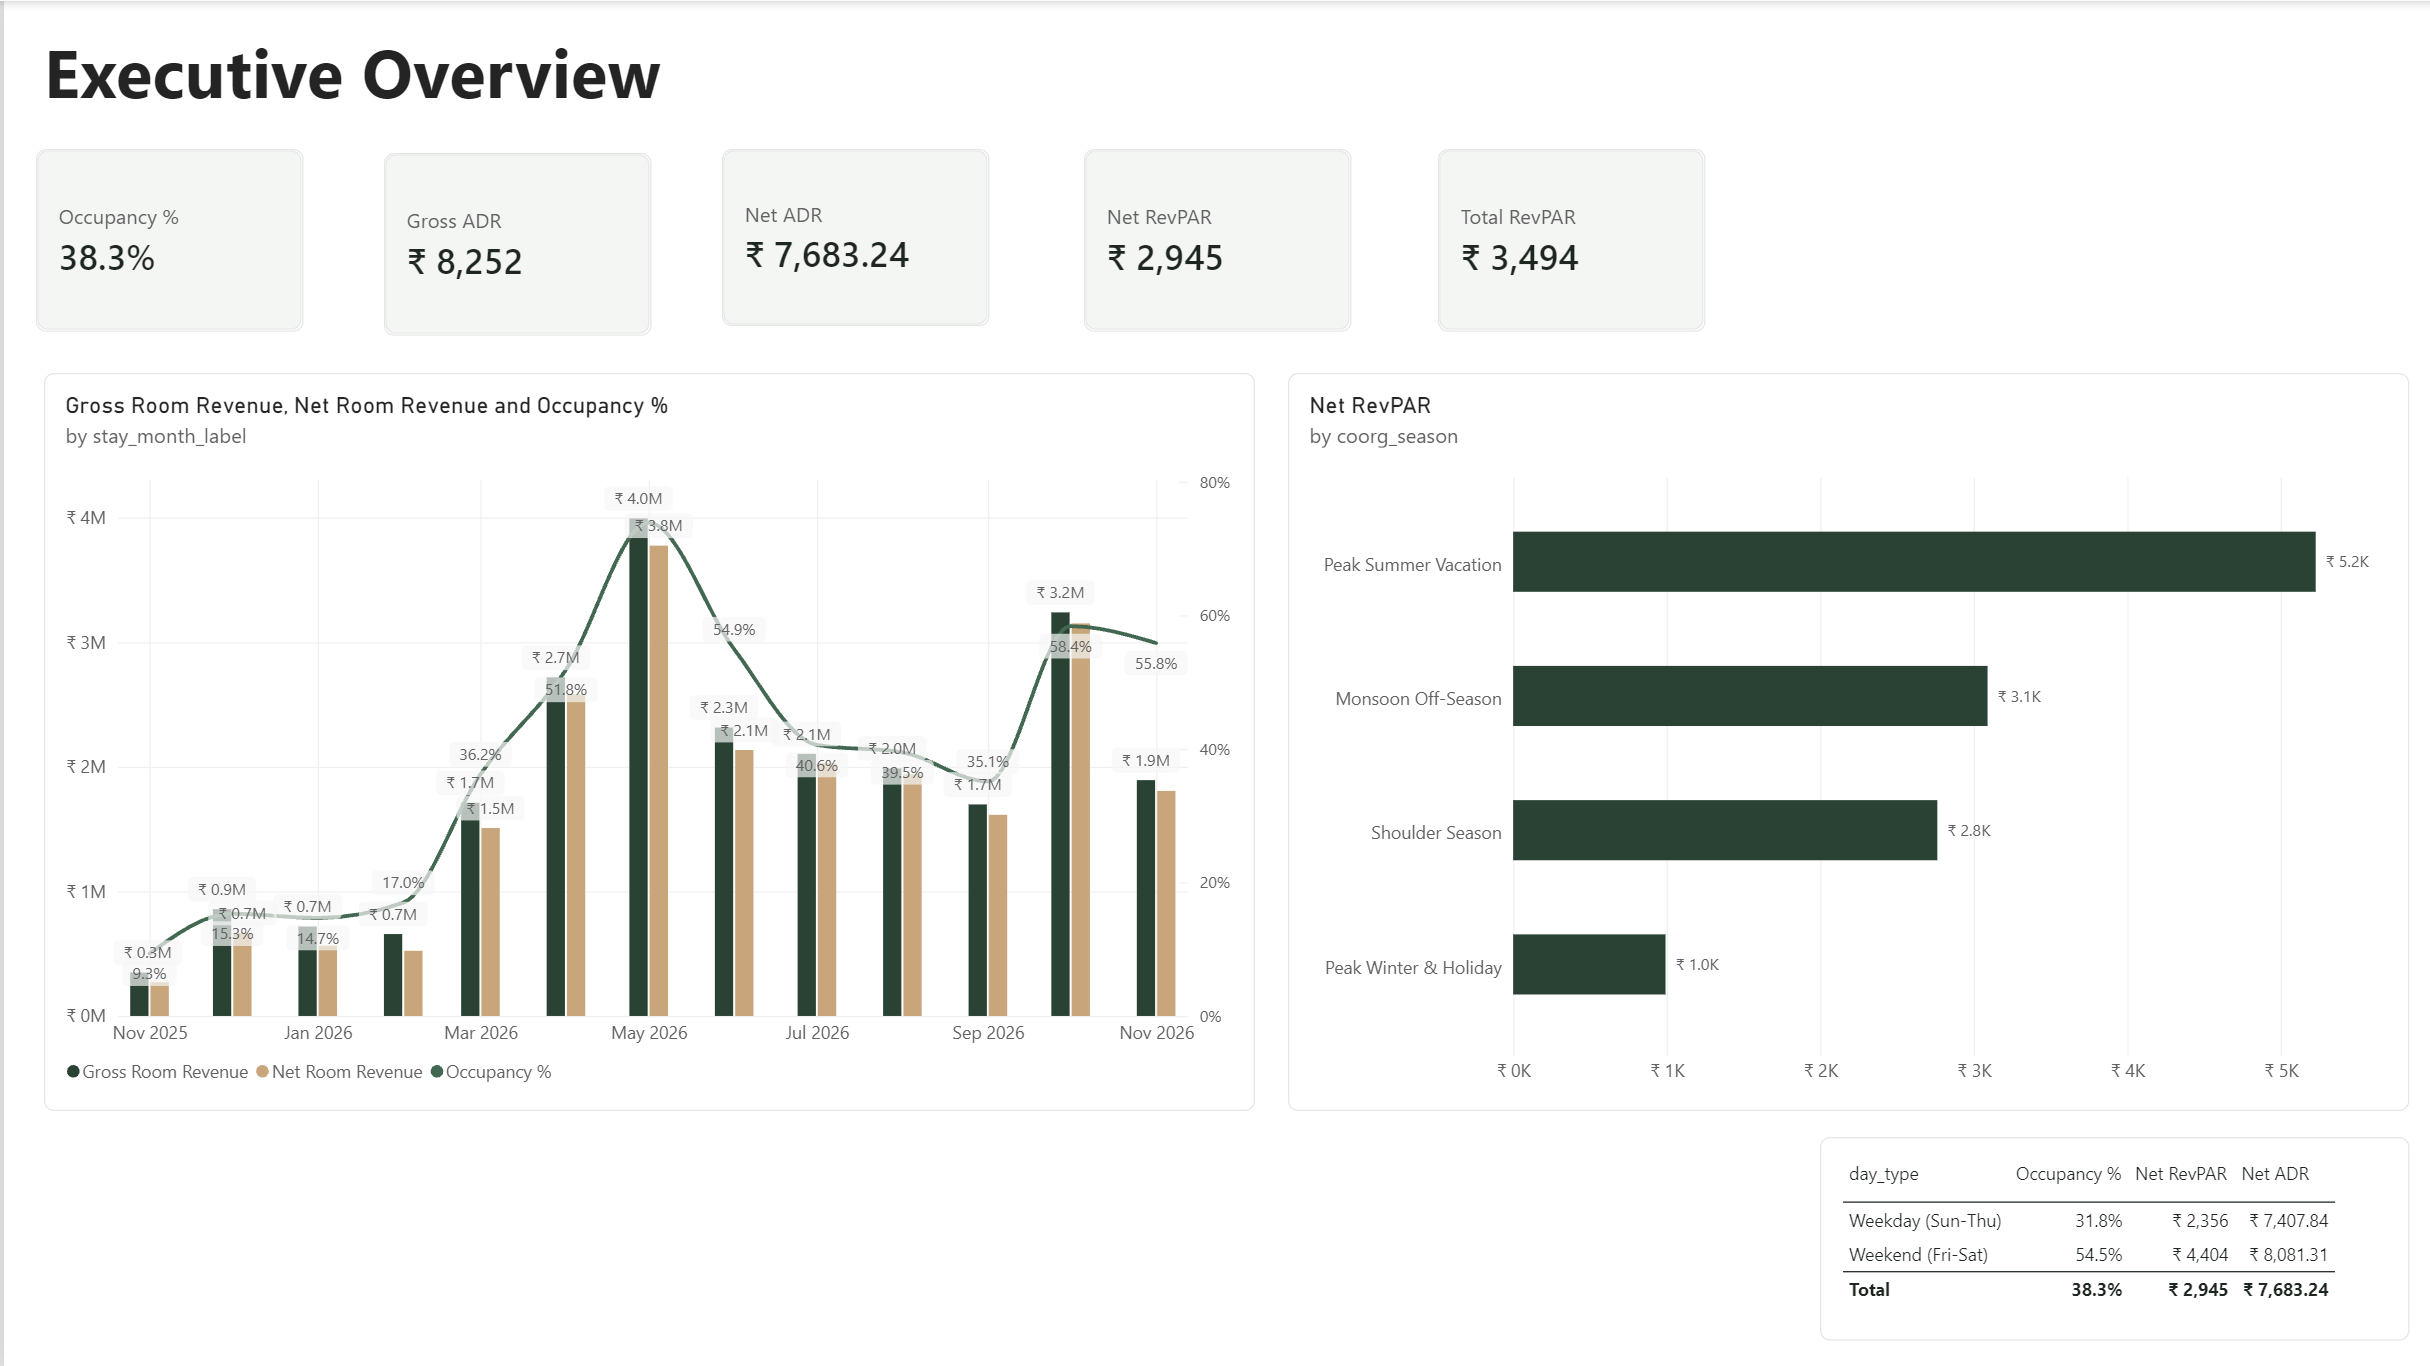

Layout of this report page (visuals, bound fields, positions):
{"tool":"powerbi","page":{"name":"Executive Overview","canvas":[1920,1080],"ordinal":0},"visuals":[{"type":"cardVisual","fields":{"Data":["_Measures.Occupancy %"]},"box":[25.3,117.1,211.3,144.7],"z":0},{"type":"cardVisual","fields":{"Data":["_Measures.Gross ADR"]},"box":[300.9,119.4,211.3,144.7],"z":1000},{"type":"cardVisual","fields":{"Data":["_Measures.Net ADR"]},"box":[567.3,117.1,211.3,140.1],"z":2000},{"type":"cardVisual","fields":{"Data":["_Measures.Net RevPAR"]},"box":[854.4,117.1,211.3,144.7],"z":3000},{"type":"cardVisual","fields":{"Data":["_Measures.Total RevPAR"]},"box":[1134.5,117.1,211.3,144.7],"z":4000},{"type":"lineClusteredColumnComboChart","fields":{"Category":["dim_date.stay_month_label"],"Y":["_Measures.Gross Room Revenue","_Measures.Net Room Revenue"],"Y2":["_Measures.Occupancy %"]},"box":[32.2,294,957.7,583.3],"z":5000},{"type":"tableEx","fields":{"Values":["dim_date.day_type","_Measures.Occupancy %","_Measures.Net RevPAR","_Measures.Net ADR"]},"box":[1435.4,898,466.2,160.8],"z":6000},{"type":"clusteredBarChart","fields":{"Category":["dim_date.coorg_season"],"Y":["_Measures.Net RevPAR"]},"box":[1015.1,294,886.5,583.3],"z":7000},{"type":"textbox","box":[32.1,18.7,620.4,72.2],"z":8000}]}

Visuals, with their boxes in screenshot pixels (x1, y1, x2, y2), scaled from the page's 1920x1080 canvas onto the 2430x1366 screenshot:
cardVisual - _Measures.Occupancy %: bbox=[32, 148, 299, 331]
cardVisual - _Measures.Gross ADR: bbox=[381, 151, 648, 334]
cardVisual - _Measures.Net ADR: bbox=[718, 148, 985, 325]
cardVisual - _Measures.Net RevPAR: bbox=[1081, 148, 1349, 331]
cardVisual - _Measures.Total RevPAR: bbox=[1436, 148, 1703, 331]
lineClusteredColumnComboChart - dim_date.stay_month_label x _Measures.Gross Room Revenue: bbox=[41, 372, 1253, 1110]
tableEx - dim_date.day_type x _Measures.Occupancy %: bbox=[1817, 1136, 2407, 1339]
clusteredBarChart - dim_date.coorg_season x _Measures.Net RevPAR: bbox=[1285, 372, 2407, 1110]
textbox: bbox=[41, 24, 826, 115]
